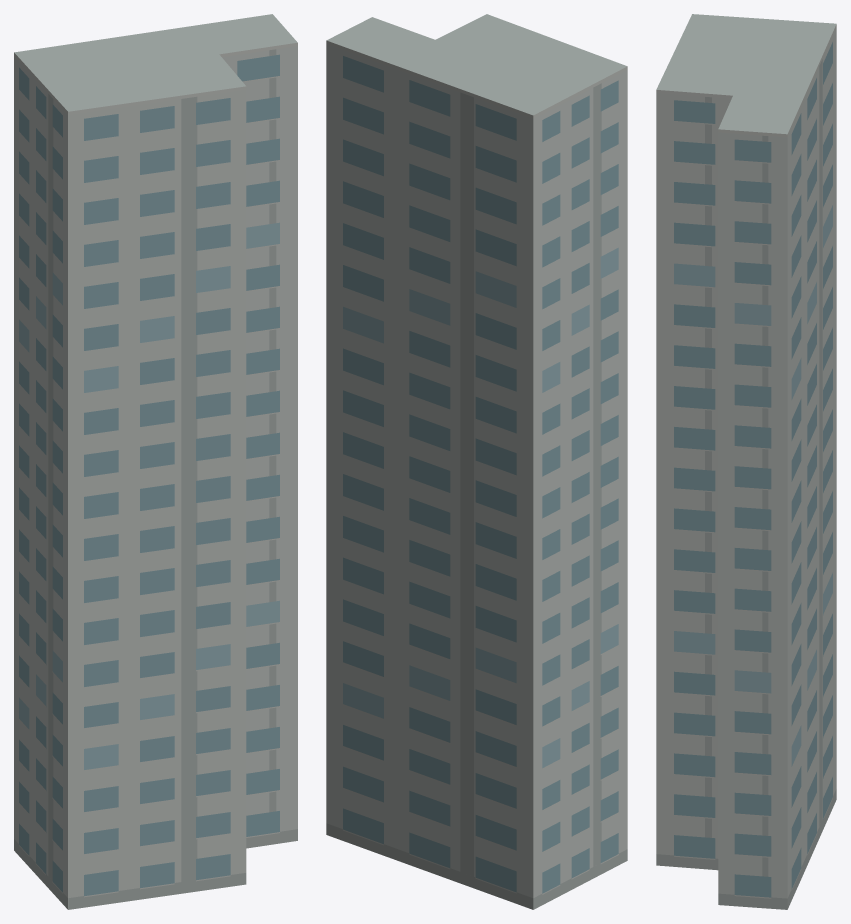
Rendered from survey-upis-32772202.glb.
3 renders of one model, left to right at view 1: azimuth 30°, elevation 25°; view 2: azimuth 150°, elevation 25°; view 3: azimuth 270°, elevation 25°, orthographic. The views are drawn at different scales.
Visible parts, largest first — view 1: survey-upis-32772202.tmp; view 2: survey-upis-32772202.tmp; view 3: survey-upis-32772202.tmp.
Boxes of the visible parts, box(x1,y1,x2,y2) form: survey-upis-32772202.tmp: box(14, 14, 297, 909); survey-upis-32772202.tmp: box(326, 14, 627, 909); survey-upis-32772202.tmp: box(656, 14, 836, 909).
Bounding box in the file's own units: 19.28 × 57.95 × 12.23.
